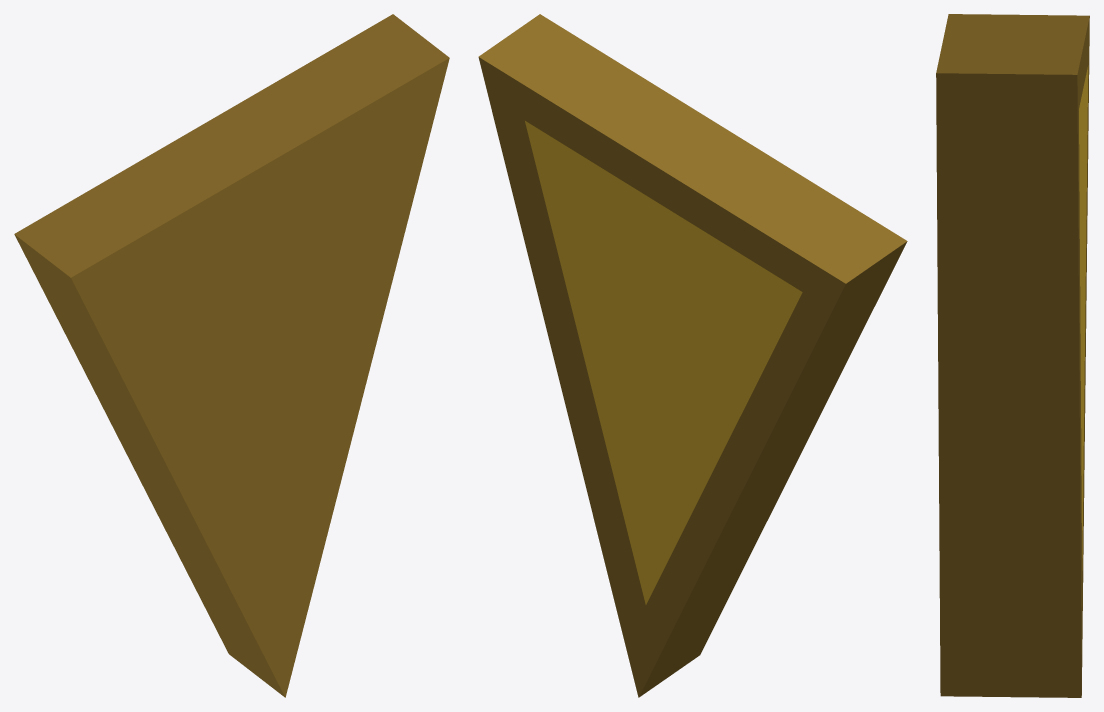
The model's file is mdl_zesty_raccoon_tri.gltf.
3 views of the same model, side by side, from view 1: azimuth 30°, elevation 25°; view 2: azimuth 150°, elevation 25°; view 3: azimuth 270°, elevation 25° (orthographic). The views are drawn at different scales.
Visible parts, largest first — view 1: mdl_zesty_raccoon_tri; view 2: mdl_zesty_raccoon_tri; view 3: mdl_zesty_raccoon_tri.
Boxes of the visible parts, <box> form: mdl_zesty_raccoon_tri: <box>14,14,449,697</box>; mdl_zesty_raccoon_tri: <box>478,14,907,697</box>; mdl_zesty_raccoon_tri: <box>936,14,1089,697</box>.
Bounding box in the file's own units: 0.2661 × 0.4068 × 0.079.
